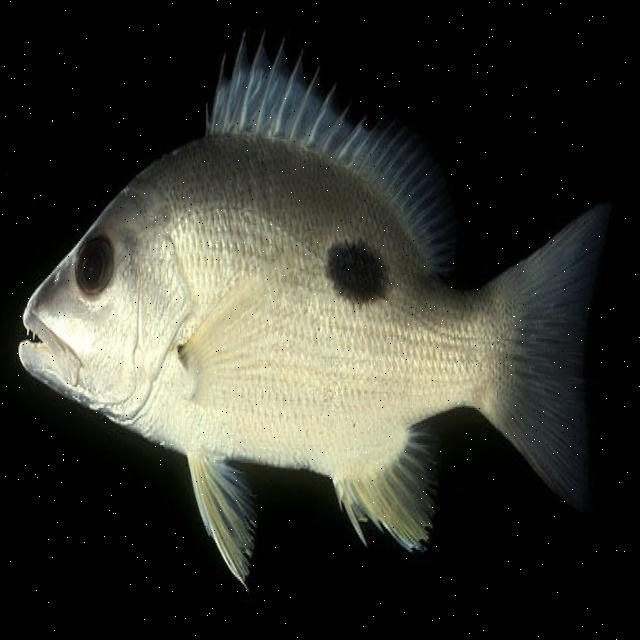ikan: (9, 18, 618, 602)
